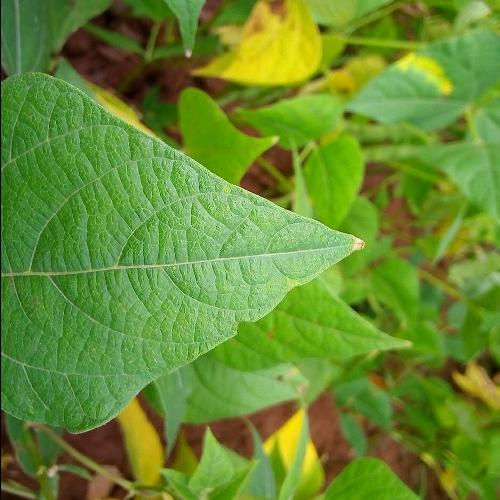sehat: (17, 133, 127, 379)
